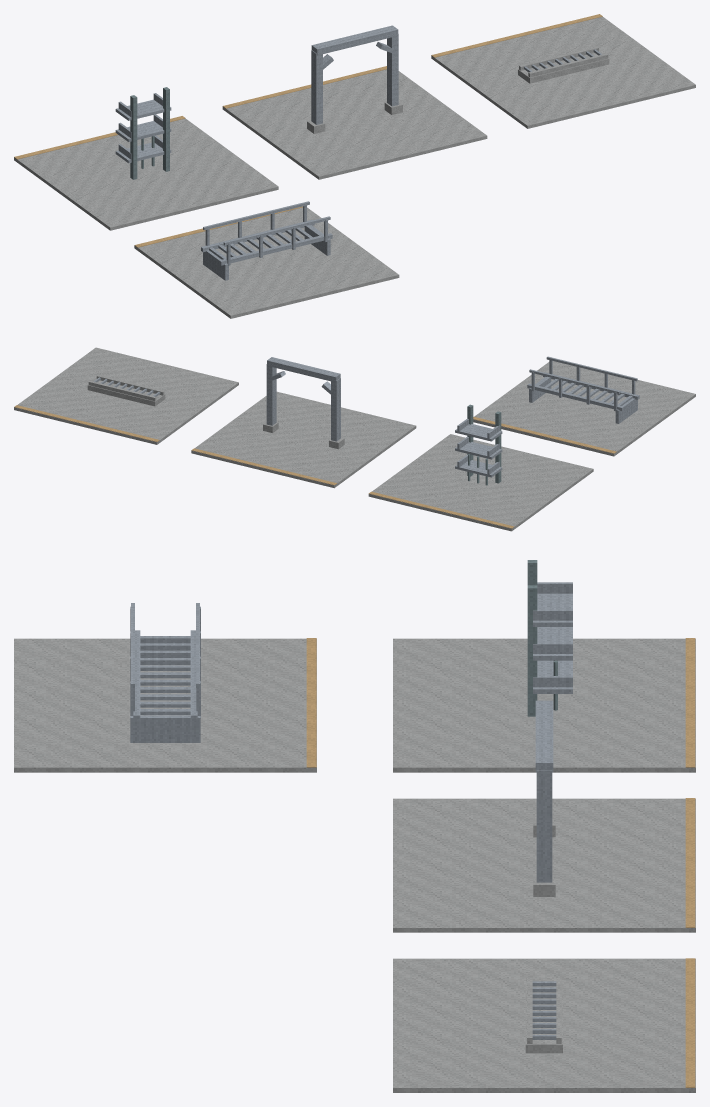
File: level_blockout_kit_wld_17_p05.glb
3 renders of one model, top to bottom at view 1: azimuth 30°, elevation 25°; view 2: azimuth 150°, elevation 25°; view 3: azimuth 270°, elevation 25°, orthographic. The views are drawn at different scales.
Visible parts, largest first — view 1: level_blockout_kit_wld_17_p05; view 2: level_blockout_kit_wld_17_p05; view 3: level_blockout_kit_wld_17_p05.
Boxes of the visible parts, x1,y1,x2,y2 form: level_blockout_kit_wld_17_p05: [14, 14, 695, 318]; level_blockout_kit_wld_17_p05: [14, 347, 695, 531]; level_blockout_kit_wld_17_p05: [14, 560, 695, 1092].
Bounding box in the file's own units: 19.65 × 2.78 × 12.6.
5 materials, 5 textured.
